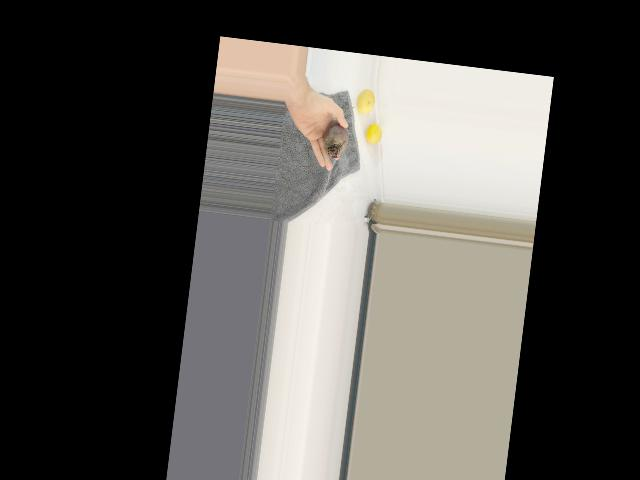beet: (320, 103, 354, 159)
